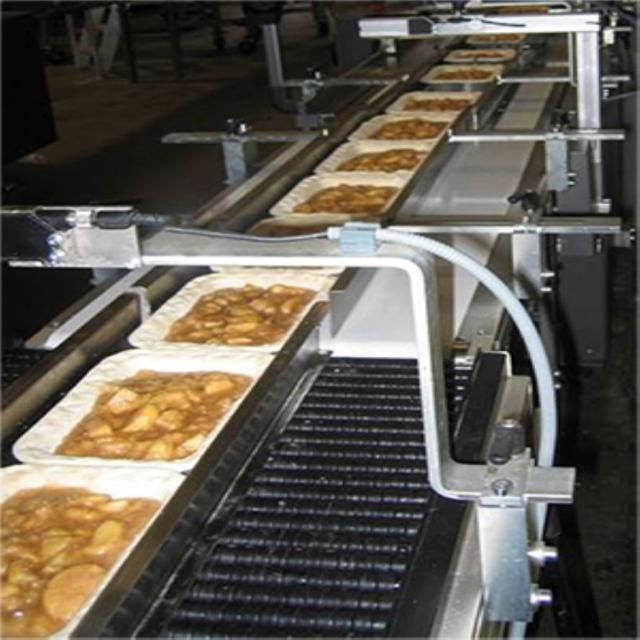food: (0, 461, 204, 632), (11, 340, 264, 474), (123, 258, 326, 360)
